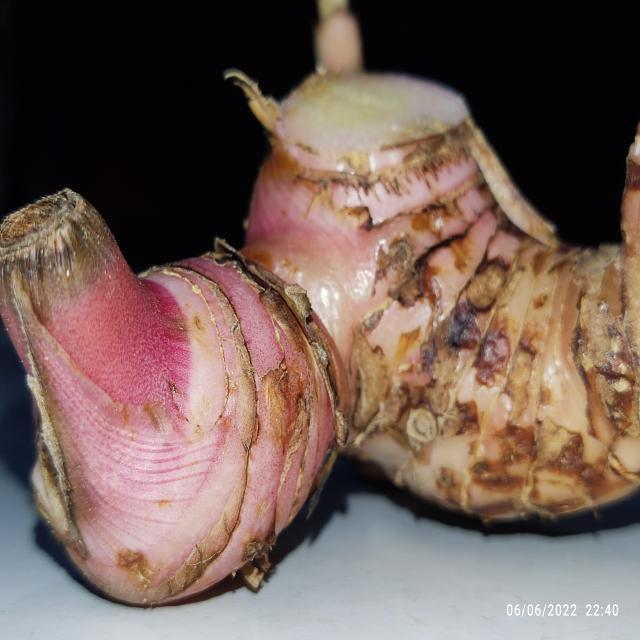ginger: (5, 53, 640, 540)
